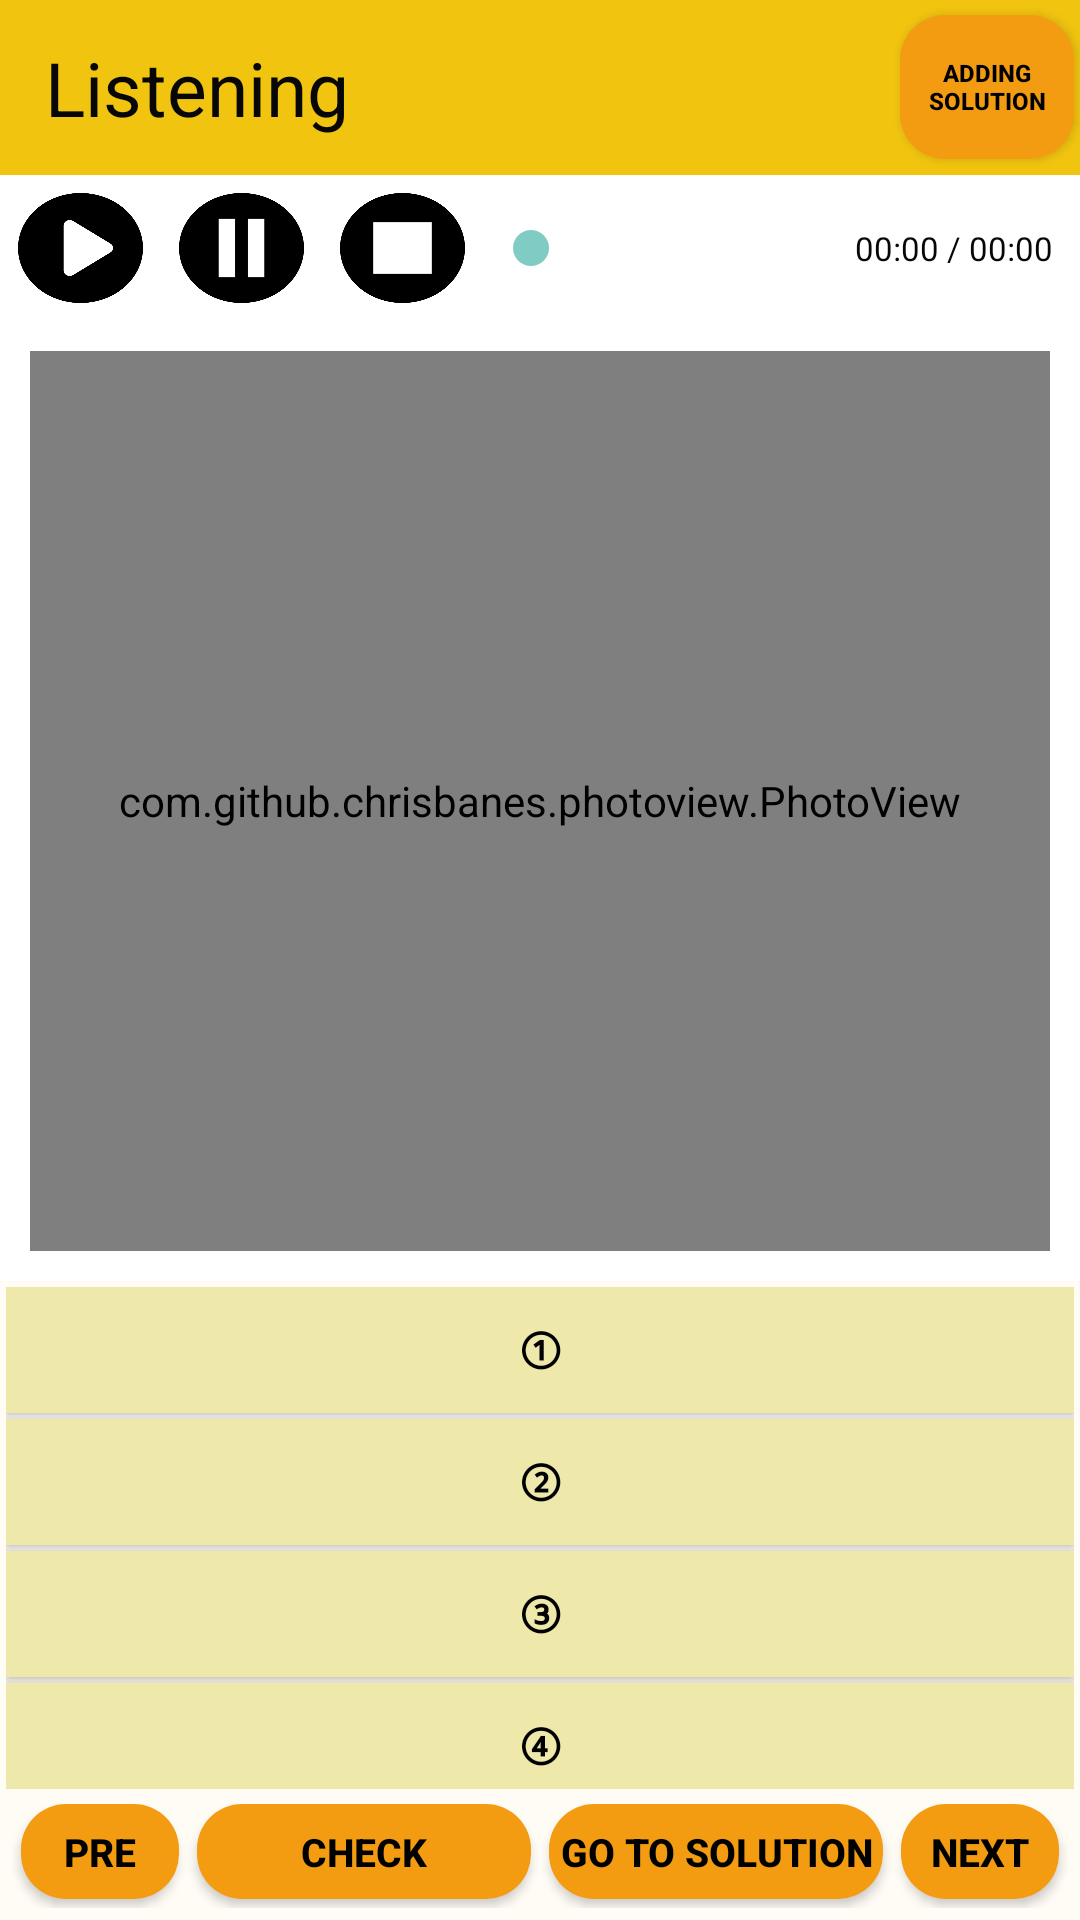

Icon bounding boxes for this 1080 × 1920 phone screenshot, format (x1, y1, x2, y2):
musicstart: (18, 193, 143, 303)
musicstop: (340, 193, 465, 303)
pause: (179, 193, 304, 303)
